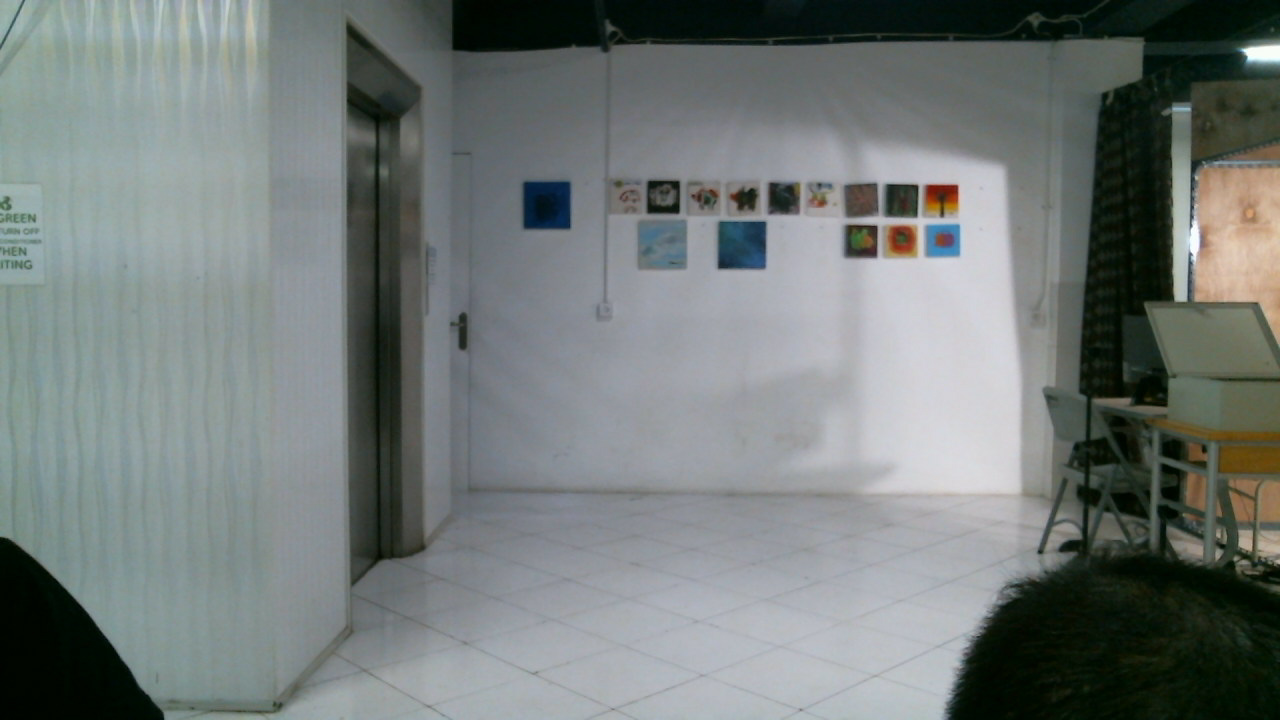bg: (151, 14, 949, 671)
